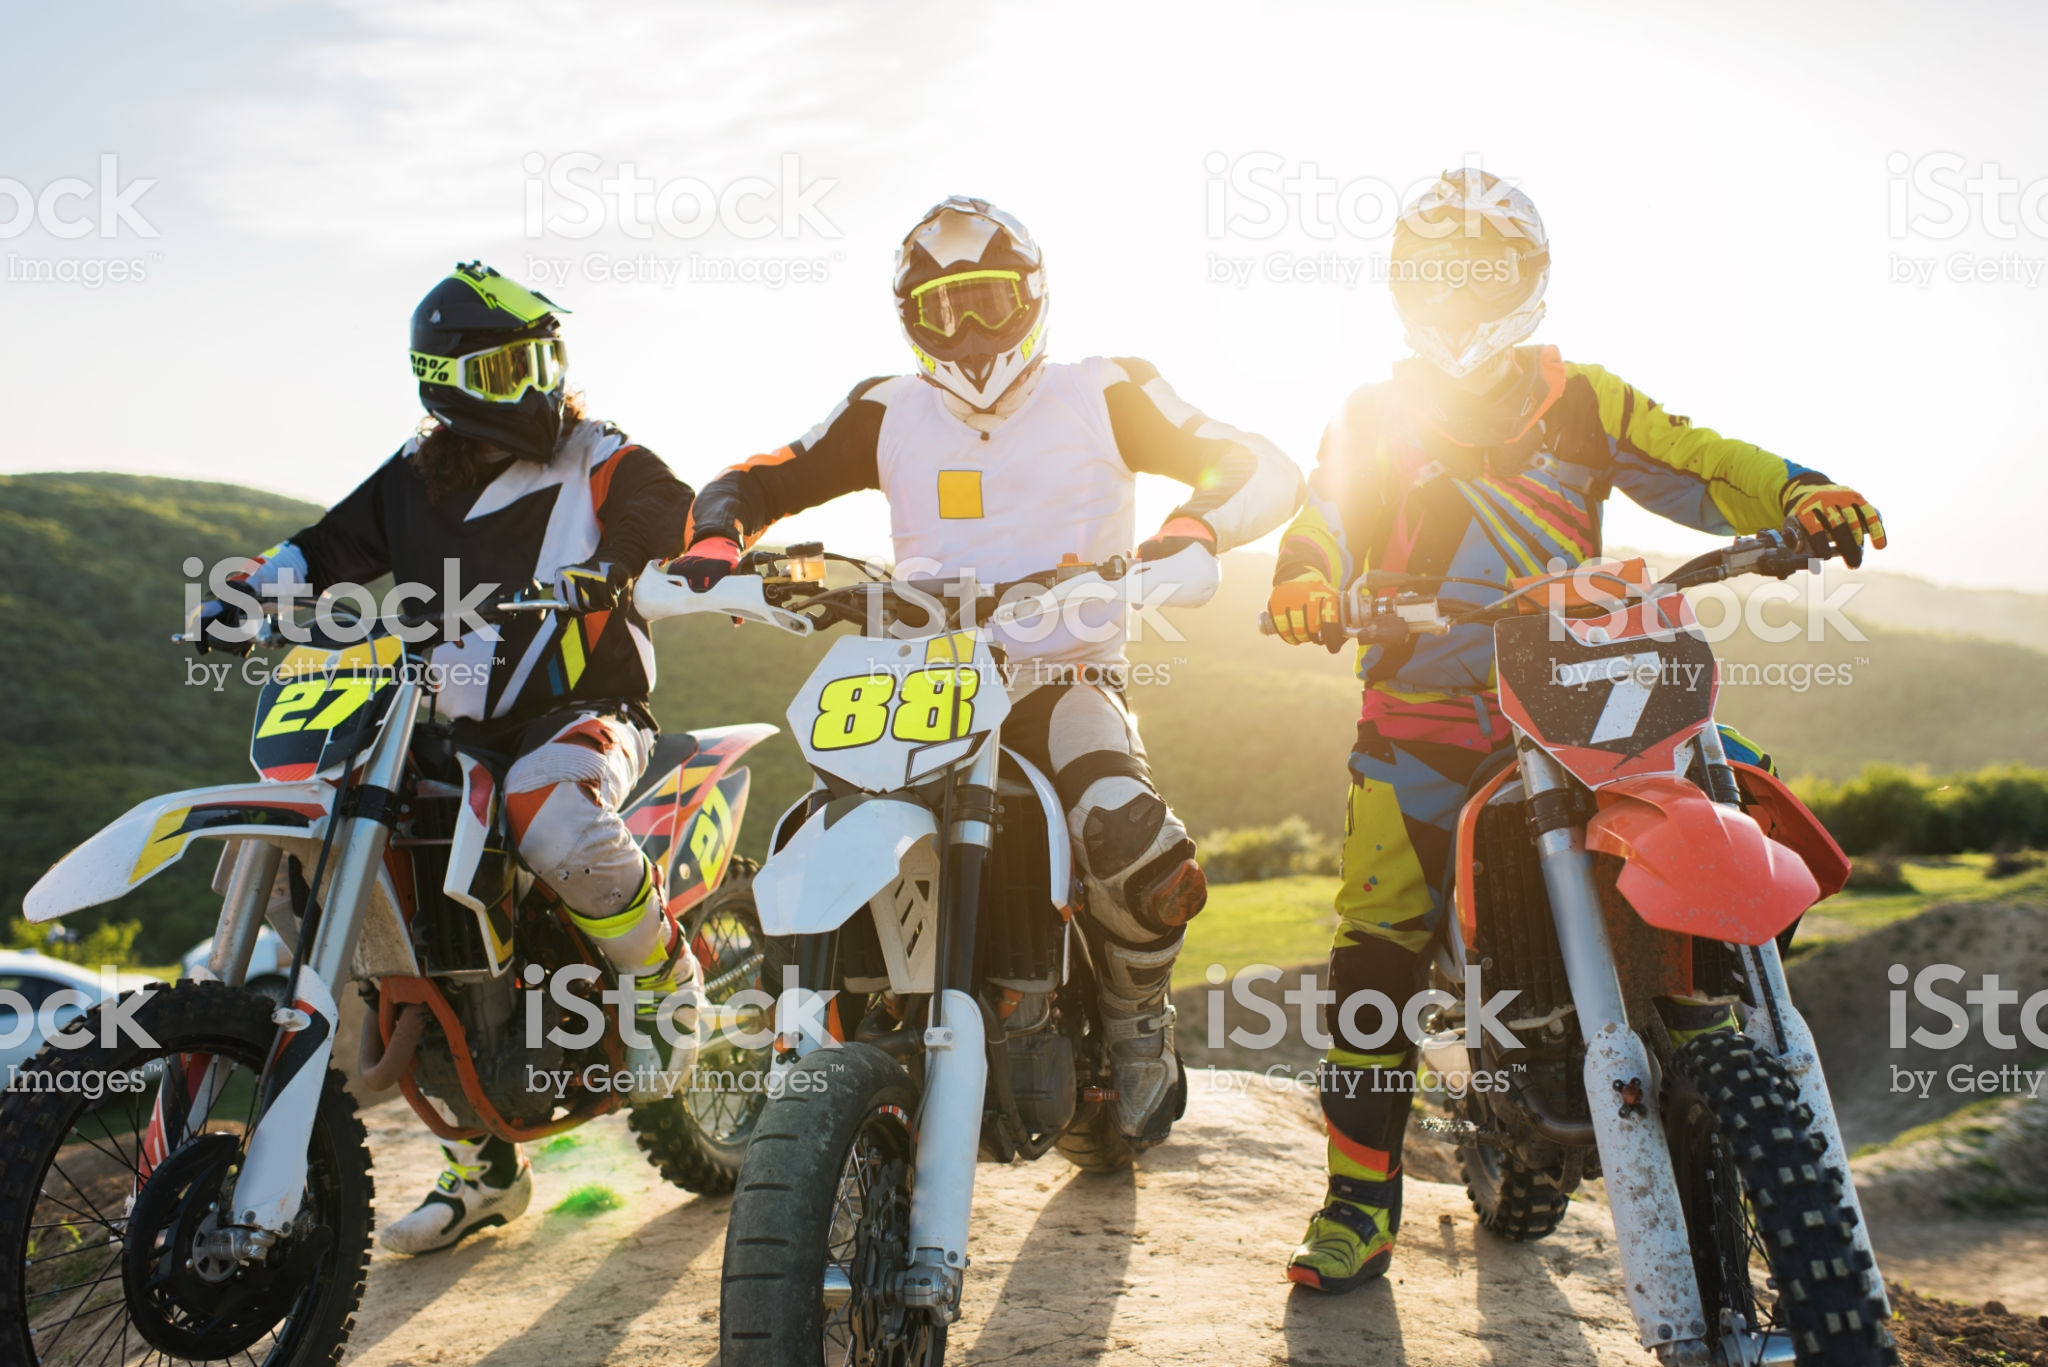helmet: (872, 201, 1061, 418), (393, 276, 615, 458), (1382, 159, 1558, 371)
